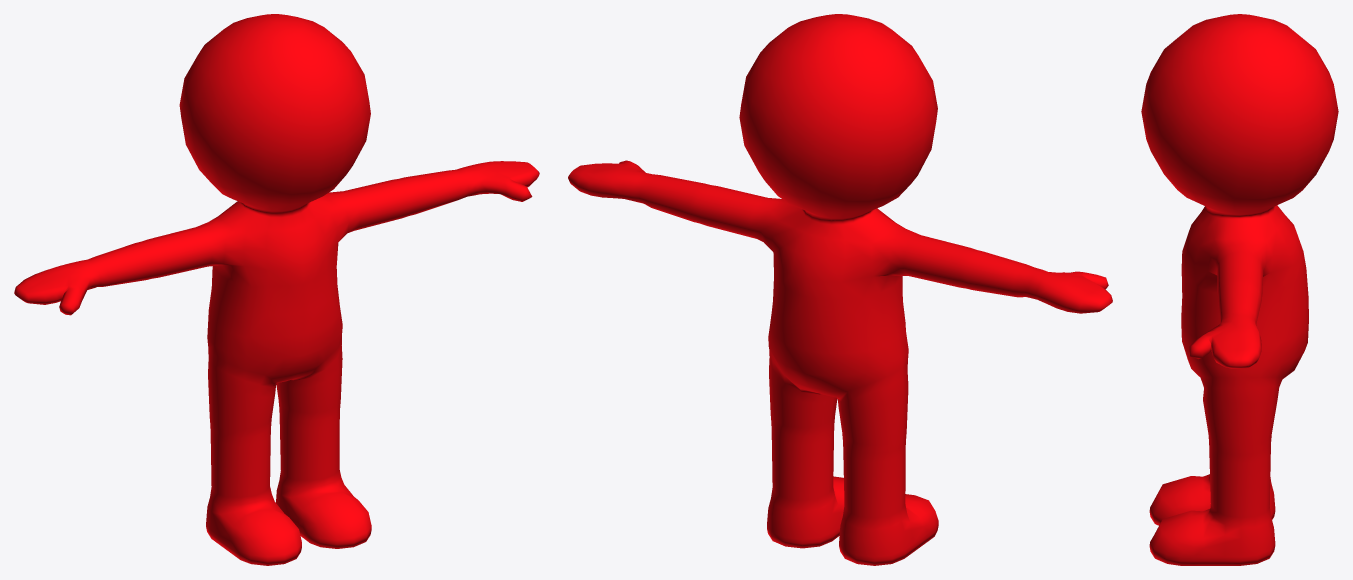
The model's file is Enemy.fbx.
3 views of the same model, side by side, from view 1: azimuth 30°, elevation 25°; view 2: azimuth 150°, elevation 25°; view 3: azimuth 270°, elevation 25° (orthographic). The views are drawn at different scales.
Parts seen in each view (by area): view 1: Enemy; view 2: Enemy; view 3: Enemy.
Part boxes in pixels (left/top/right/bottom): Enemy: left=14, top=14, right=539, bottom=565; Enemy: left=568, top=14, right=1112, bottom=565; Enemy: left=1141, top=14, right=1338, bottom=565.
Bounding box in the file's own units: 163 × 151 × 52.67.
